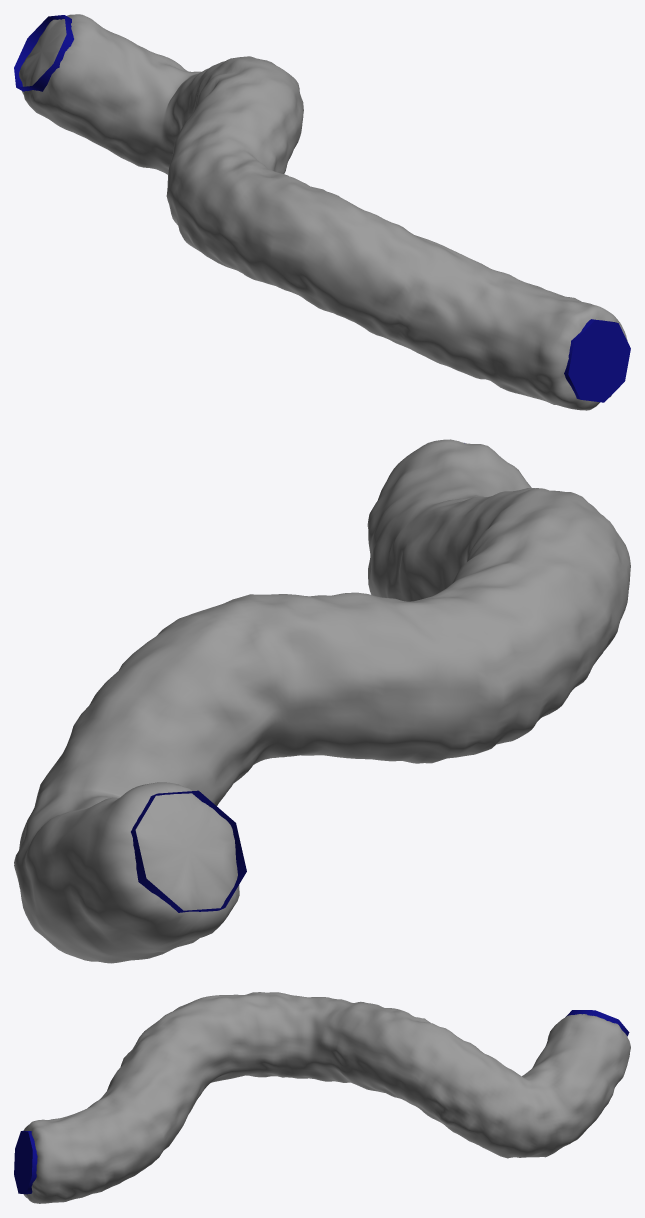
Rendered from Erythrocyte_models.obj.
The picture shows the model from 3 angles, top to bottom: view 1: azimuth 30°, elevation 25°; view 2: azimuth 150°, elevation 25°; view 3: azimuth 270°, elevation 25°; orthographic projection. The views are drawn at different scales.
Visible parts, largest first — view 1: Loft03, Loft01; view 2: Loft03, Loft01; view 3: Loft03, Loft01.
Boxes of the visible parts, x1,y1,x2,y2 form: Loft03: (19, 14, 627, 410); Loft01: (14, 15, 630, 402); Loft03: (14, 439, 630, 963); Loft01: (131, 790, 246, 912); Loft03: (23, 992, 630, 1203); Loft01: (14, 1010, 629, 1194).
Size of the model in its own units: 198 by 128 by 492.
